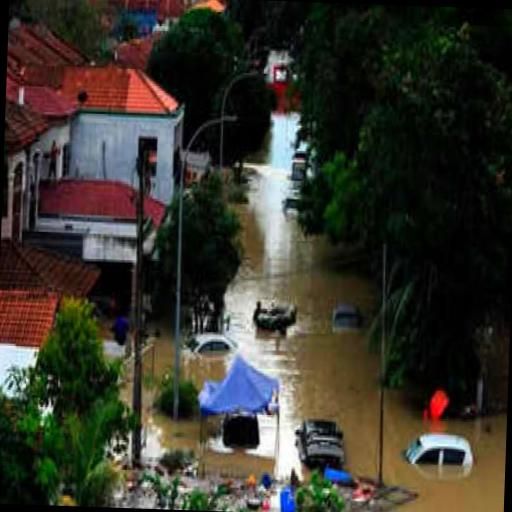flood: (225, 115, 378, 480), (383, 400, 506, 512), (140, 340, 199, 456), (265, 210, 309, 303), (201, 424, 276, 478), (180, 352, 228, 392)
house: (30, 172, 160, 267), (64, 64, 182, 160), (6, 18, 84, 90), (0, 285, 61, 349), (4, 91, 44, 161)
